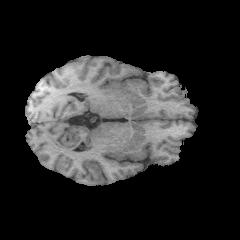glioma: (98, 64, 141, 89)
